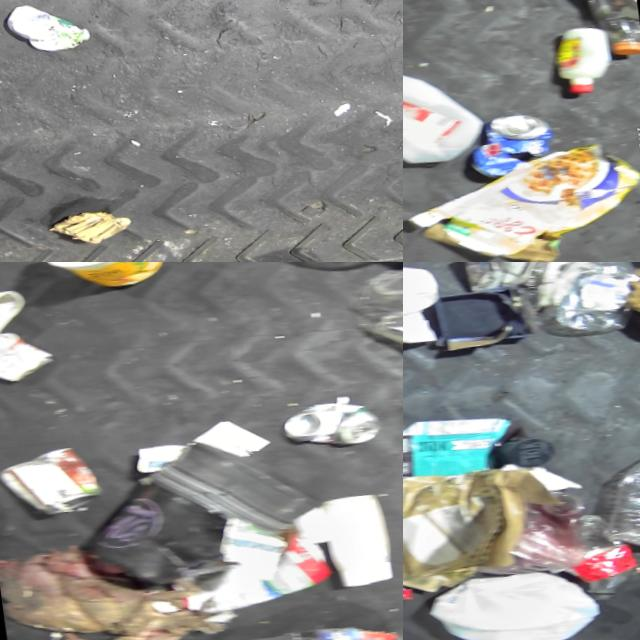can: (0, 435, 106, 524), (447, 99, 556, 182), (268, 381, 390, 453)
milk_jug: (413, 549, 606, 640), (403, 41, 488, 176), (561, 504, 640, 600), (403, 262, 443, 354)
plastic_bottle: (588, 416, 640, 552), (218, 610, 403, 640)
